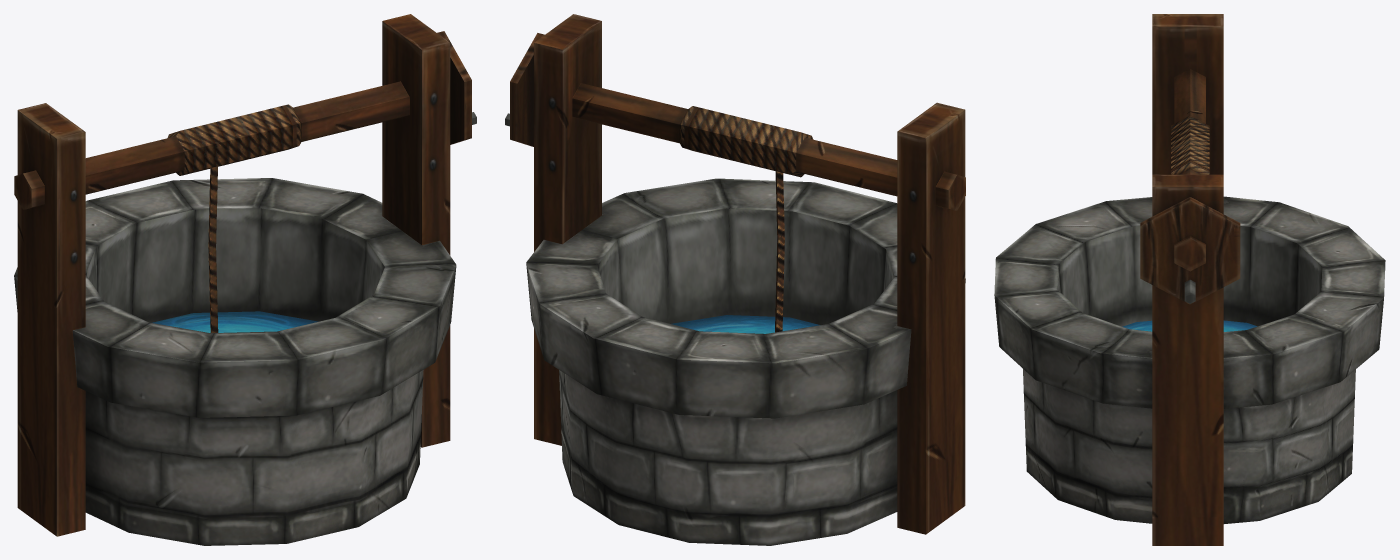
Rendered from modelPond1.fbx.
3 views of the same model, side by side, from view 1: azimuth 30°, elevation 25°; view 2: azimuth 150°, elevation 25°; view 3: azimuth 270°, elevation 25° (orthographic). The views are drawn at different scales.
Parts seen in each view (by area): view 1: modelPond1; view 2: modelPond1; view 3: modelPond1.
Part boxes in pixels (x1,y1,x2,y2): modelPond1: [14, 14, 476, 545]; modelPond1: [505, 14, 965, 545]; modelPond1: [994, 14, 1385, 545].
Bounding box in the file's own units: 25.24 × 21.28 × 21.02.
